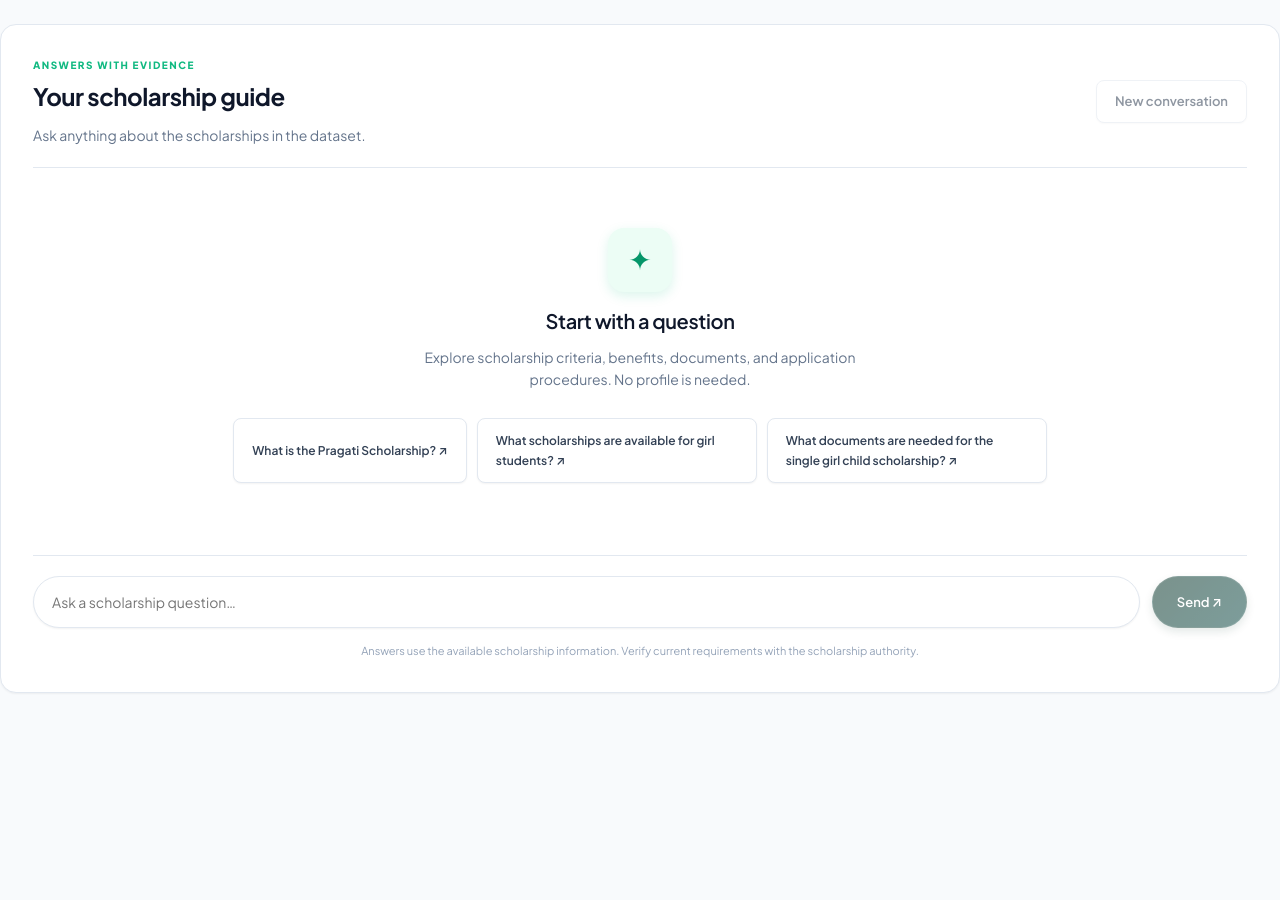
Test case: sources and immediate assistant access › renders actual generated prose and sends no profile
Type "Tell me about Pragati" into the field labelled "Ask a scholarship question" at [586, 602], box [33,576,1140,628]
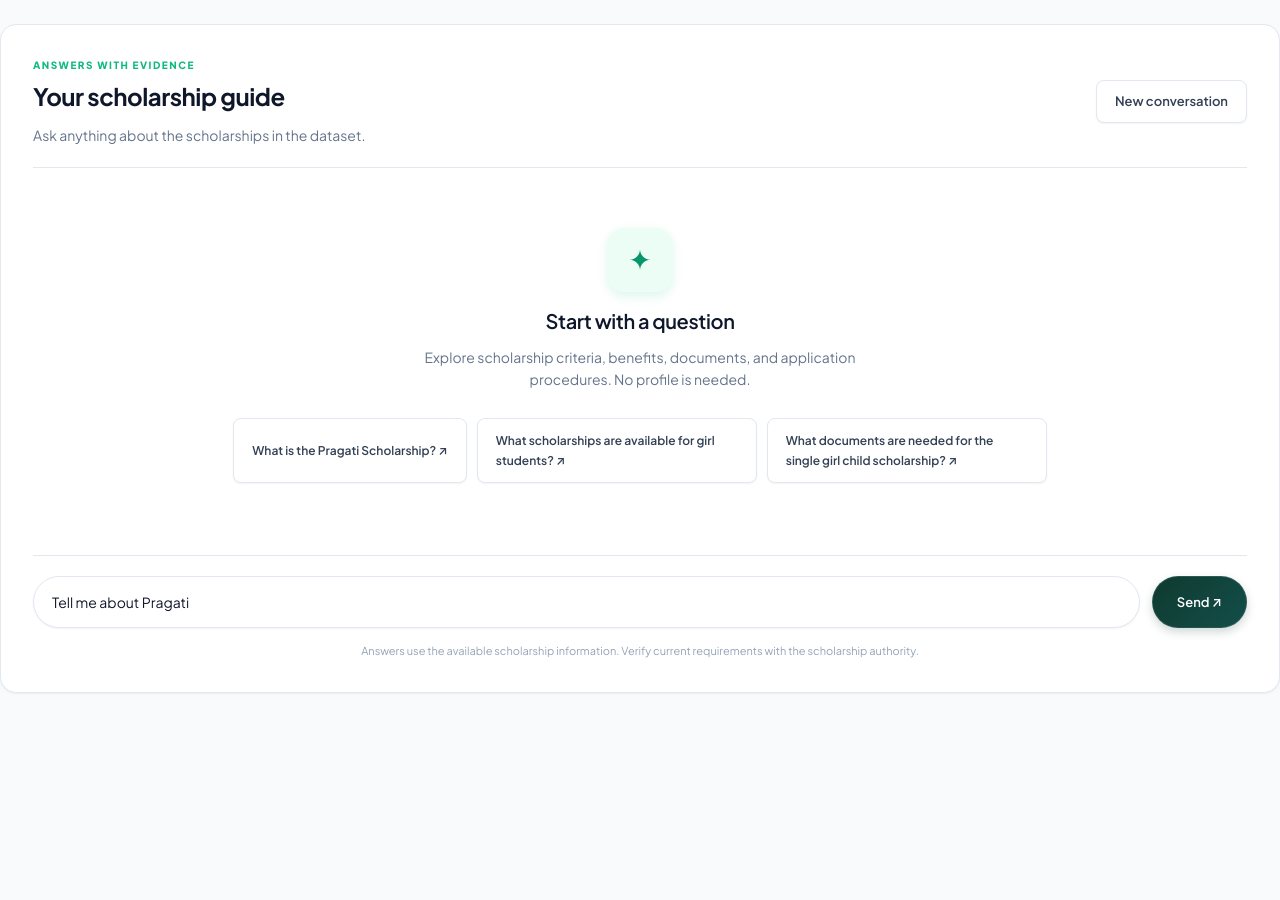
Result: the button "Send ↗" is enabled
Click the button "Send ↗" at [1199, 602], box [1152,576,1247,628]
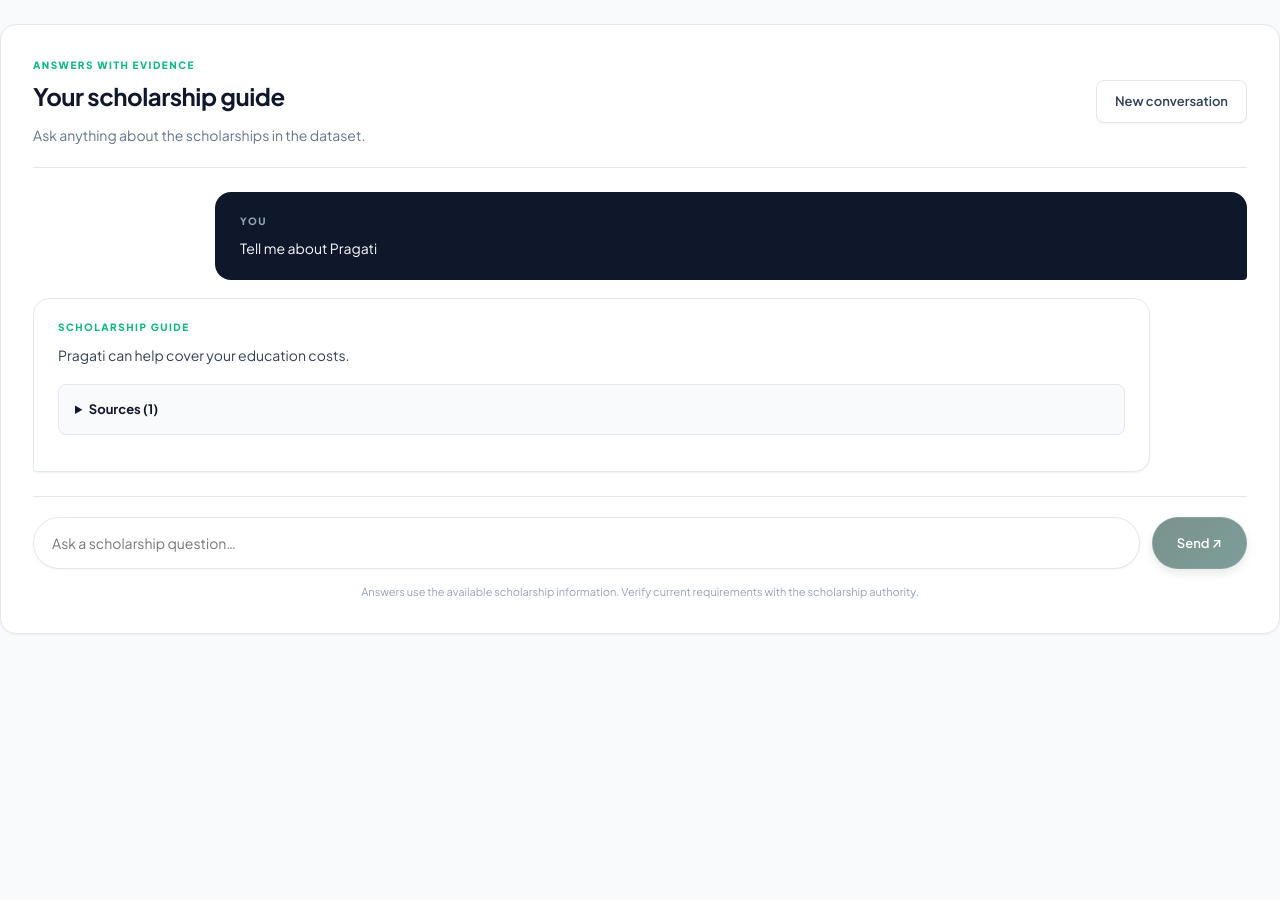
Result: the text "Pragati can help cover your education costs." is shown at [58,346,350,364]
Result: the heading "Sources (1)" is shown at [89,401,158,417]
